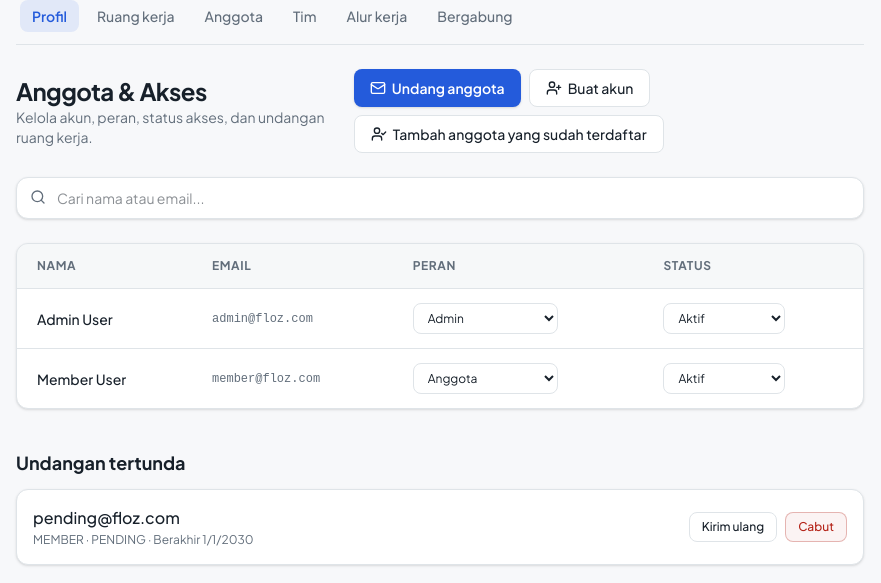
it: Task 6 — Member & Team Administration UI › lists members with search filter, role and status selects
Expected: the text "Admin User" is shown, [17, 288, 192, 348]
Expected: the text "Member User" is shown, [17, 348, 192, 408]
In the field with placeholder "Cari nama atau email...": (440, 198) [16, 177, 864, 219], type "Admin"
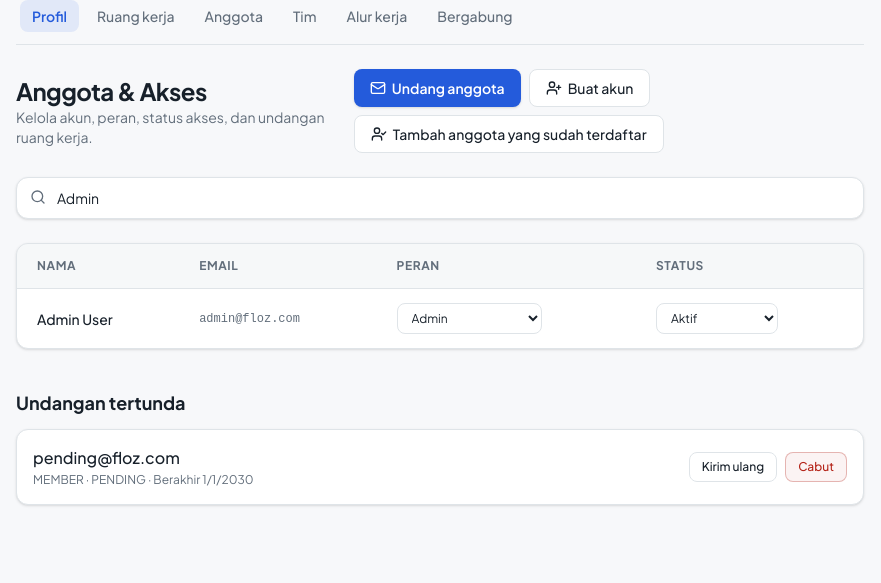
Expected: the text "Admin User" is shown, [17, 288, 179, 348]
Now the text "Member User" is not shown
